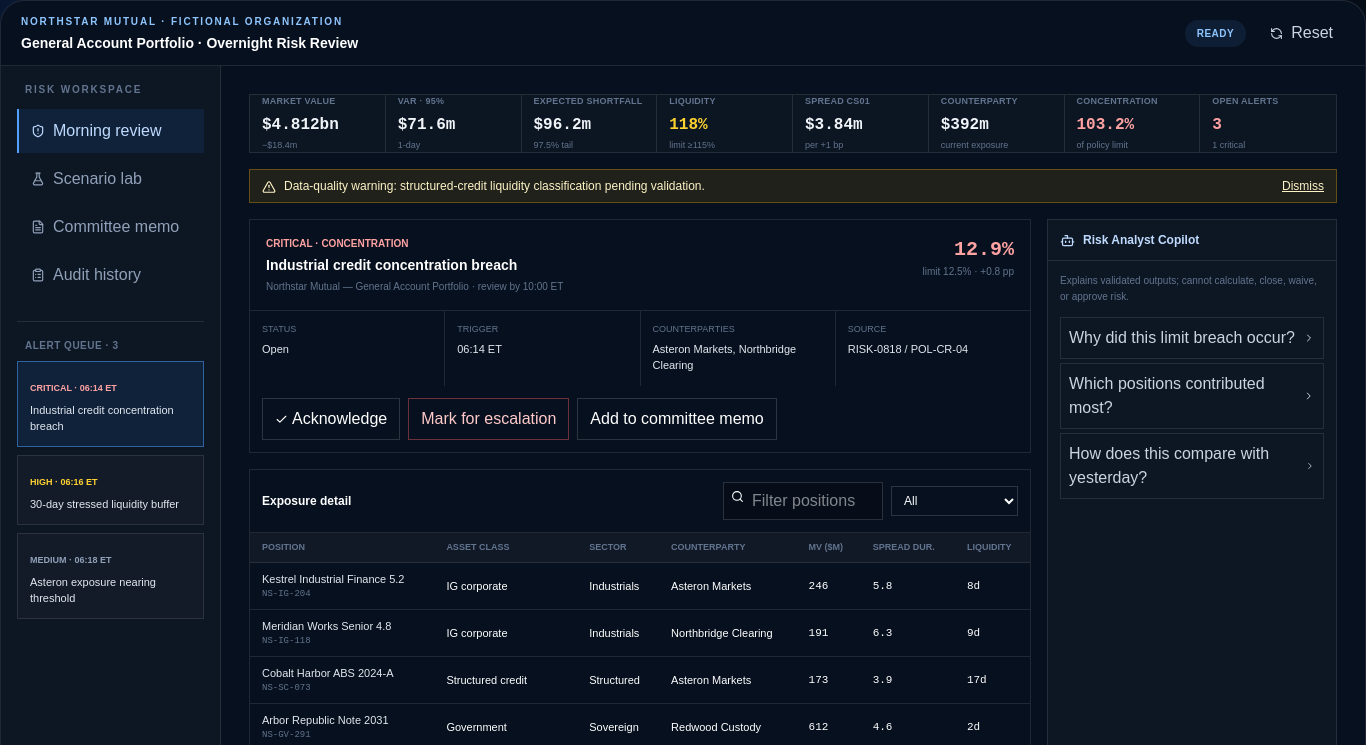
Risk Analyst Copilot simulation › renders the morning overview and selects an alert
Expected: the text "$4.812bn" is shown, [262, 116, 339, 134]
Click the text "Asteron exposure nearing threshold" at (93, 590), box [30, 576, 156, 604]
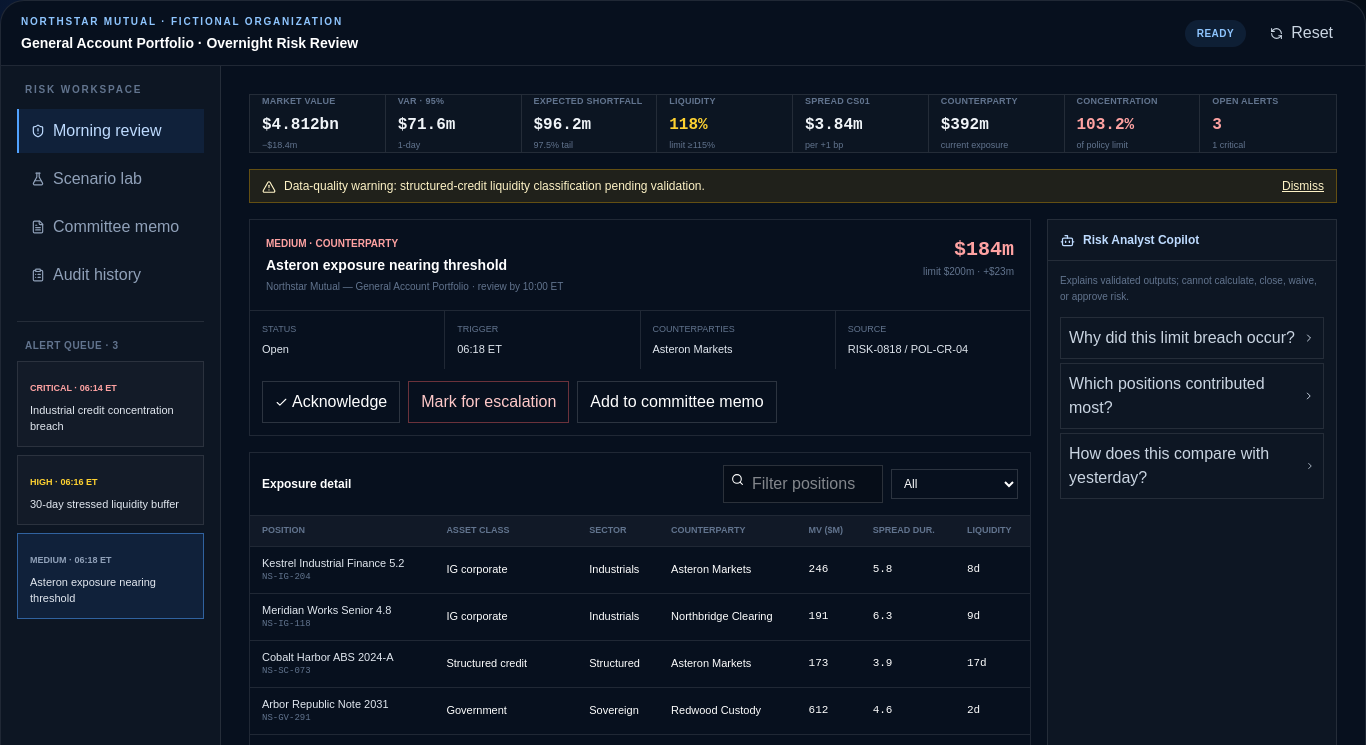
Expected: the text "$184m" is shown, [954, 238, 1014, 261]
